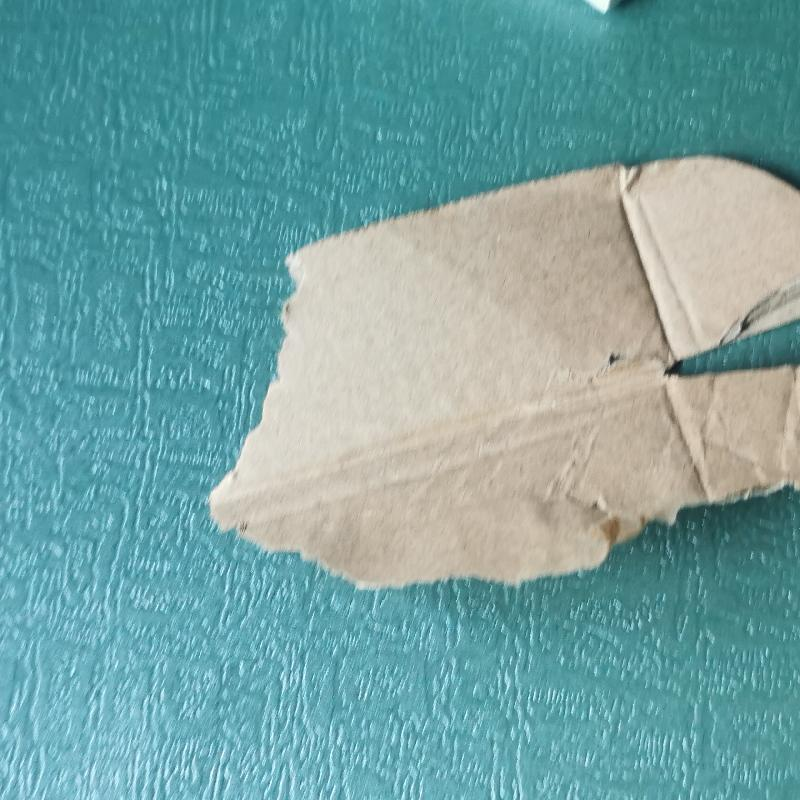boxes: (193, 146, 800, 604)
